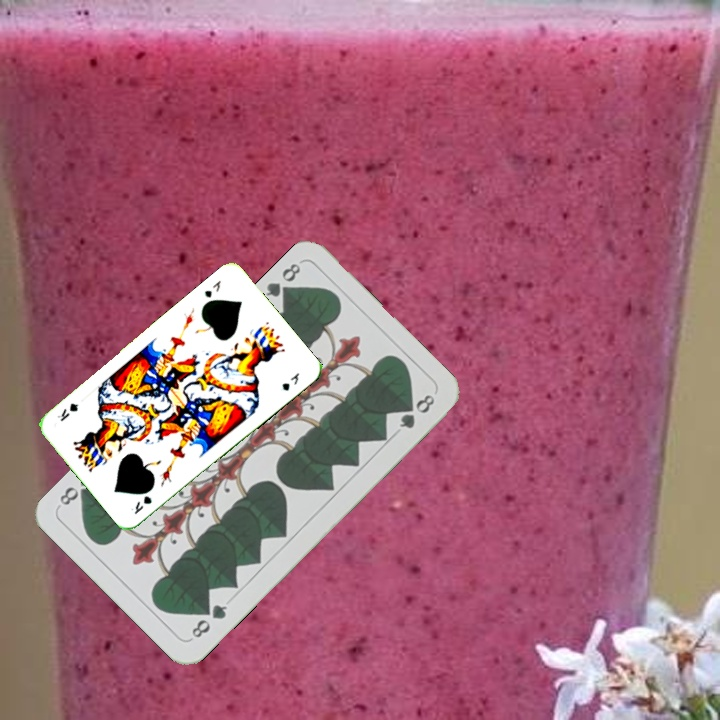G8: (261, 259, 304, 304), (187, 600, 230, 641)
GK: (127, 491, 155, 517), (200, 276, 224, 300)
